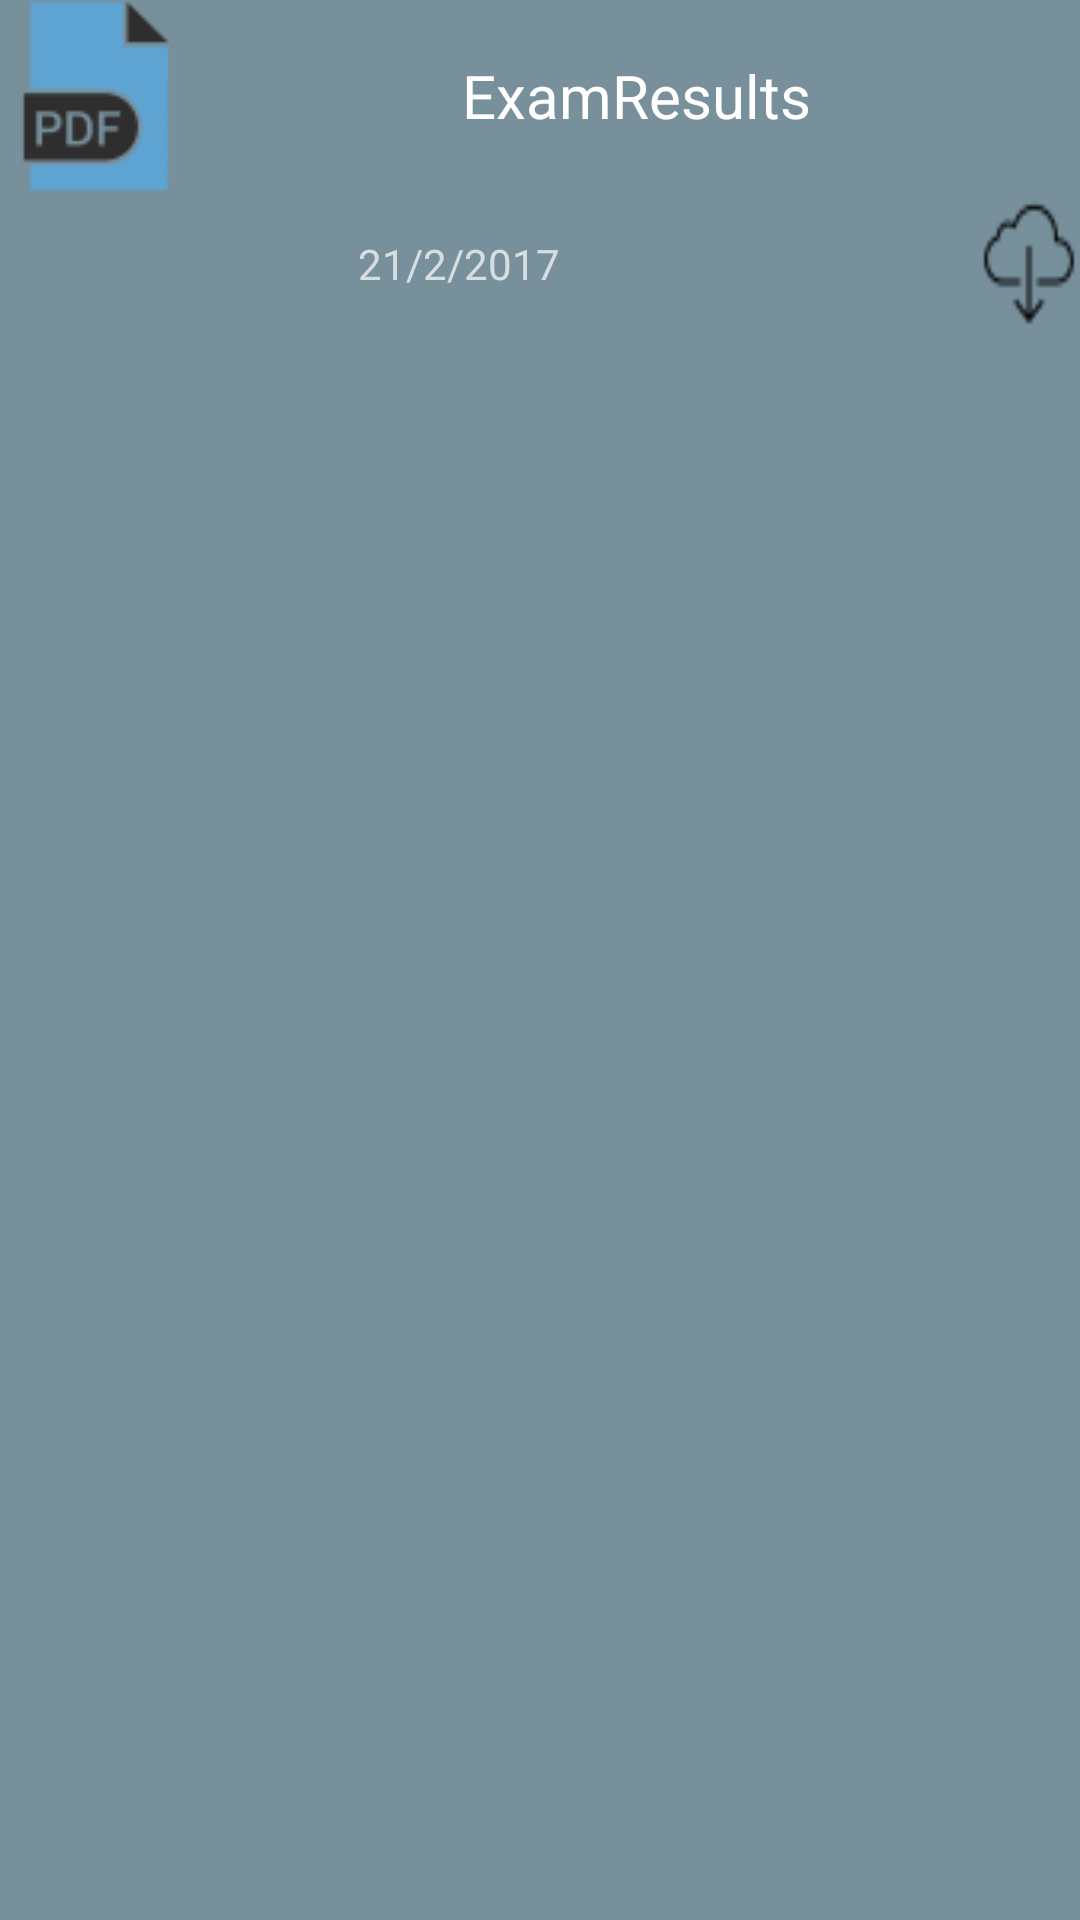

Point at icon controls on the screen. Image size 1080x1920, points as point (x, y).
download cloud: point (1029, 264)
